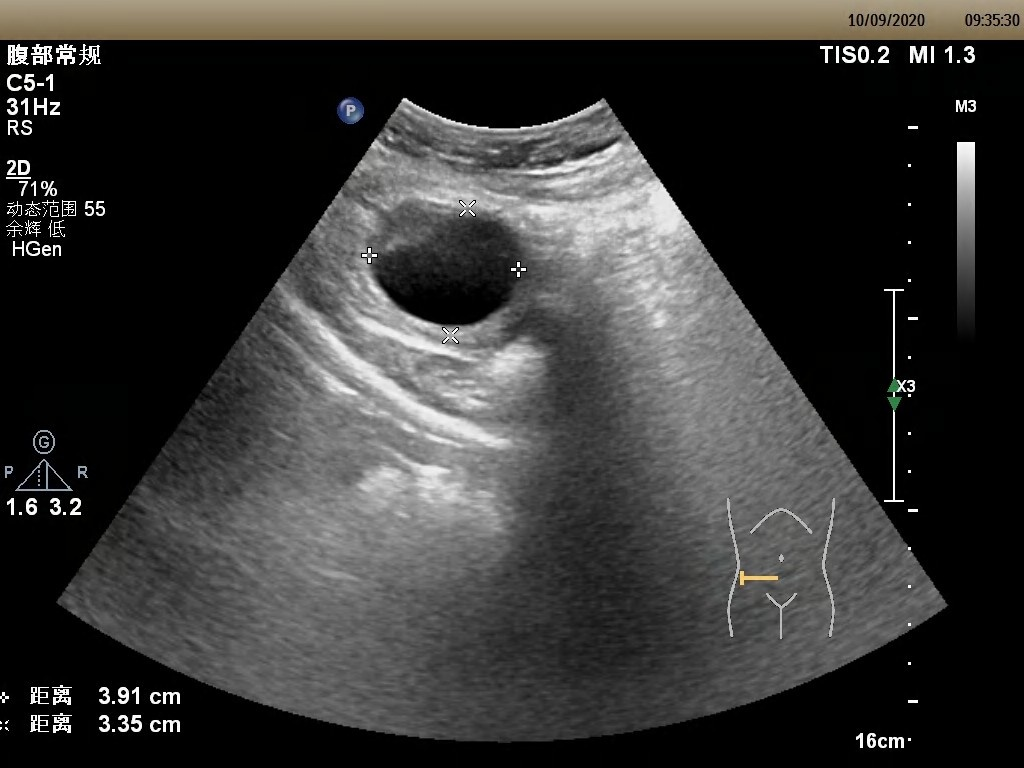肌瘤: (377, 219, 522, 323)
